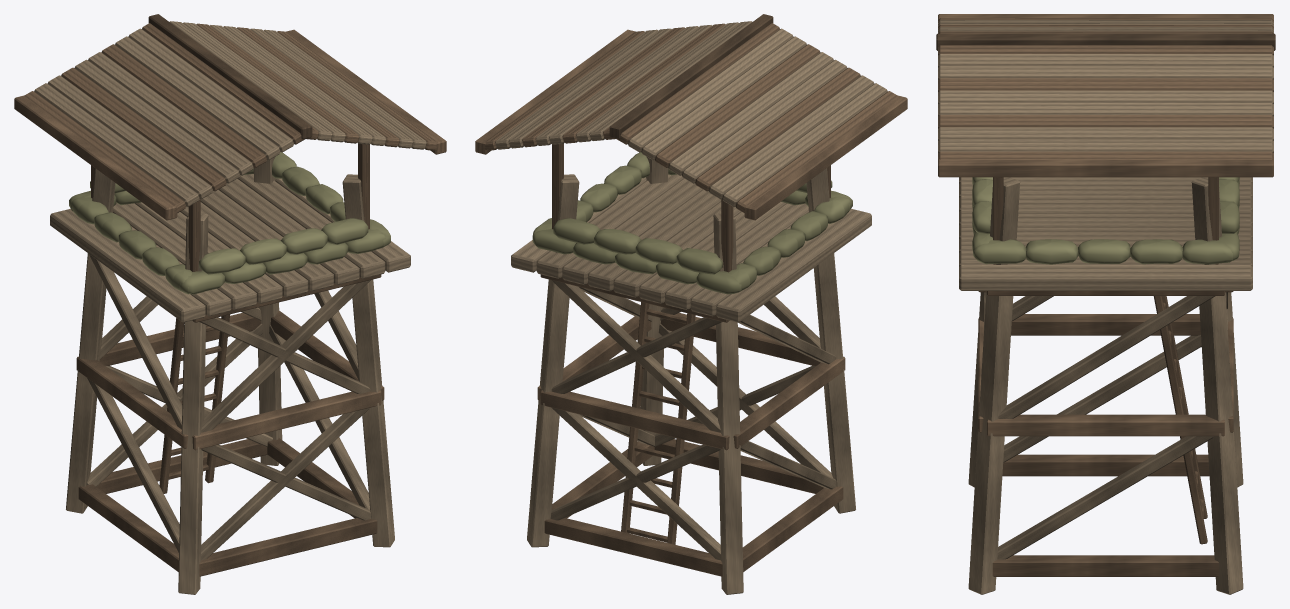
File: watchtower.glb
3 renders of one model, left to right at view 1: azimuth 30°, elevation 25°; view 2: azimuth 150°, elevation 25°; view 3: azimuth 270°, elevation 25°, orthographic. The views are drawn at different scales.
Visible parts, largest first — view 1: Timber worn edges, Weathered timber, Olive canvas, Dark endgrain; view 2: Timber worn edges, Weathered timber, Olive canvas, Dark endgrain; view 3: Timber worn edges, Weathered timber, Olive canvas, Dark endgrain.
Part boxes in pixels (x1,y1,x2,y2): Timber worn edges: (34, 21, 426, 594); Weathered timber: (14, 23, 446, 576); Olive canvas: (69, 152, 390, 294); Dark endgrain: (148, 14, 312, 139); Timber worn edges: (495, 21, 887, 594); Weathered timber: (475, 23, 907, 576); Olive canvas: (532, 152, 852, 294); Dark endgrain: (609, 14, 773, 139); Timber worn edges: (938, 20, 1273, 594); Weathered timber: (938, 14, 1273, 576); Olive canvas: (972, 177, 1239, 264); Dark endgrain: (936, 33, 1275, 50).
Size of the model in its own units: 2.19 by 3.4 by 2.08.
5 materials, 3 textured.
